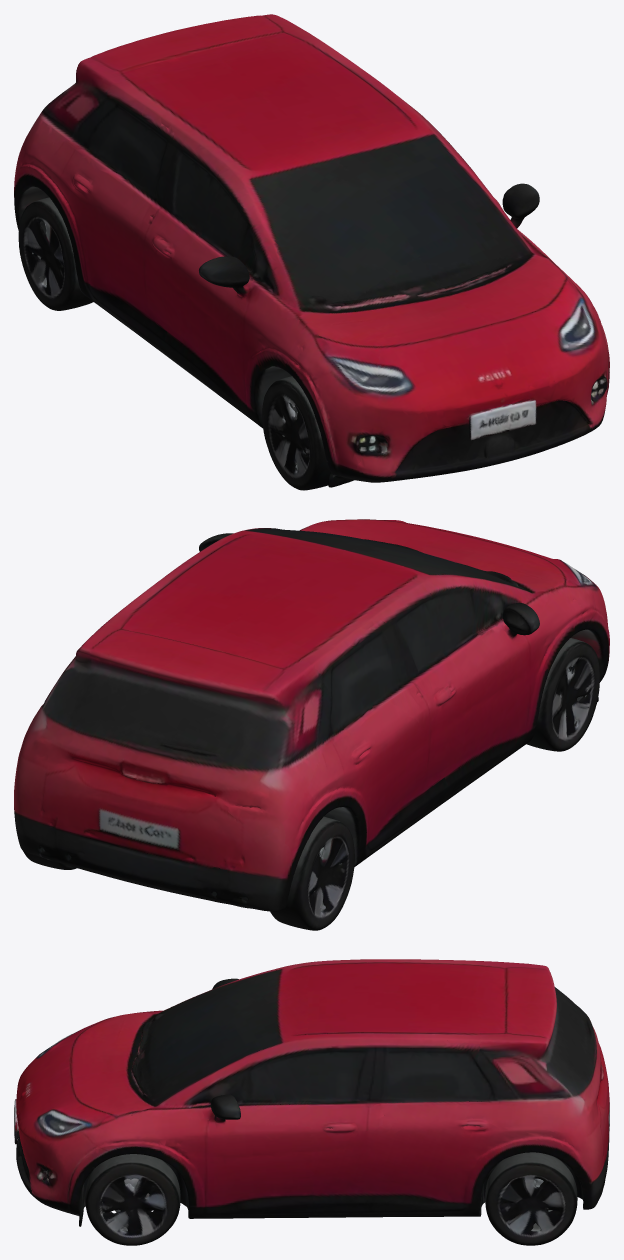
File: car.glb
The picture shows the model from 3 angles, top to bottom: view 1: azimuth 30°, elevation 25°; view 2: azimuth 150°, elevation 25°; view 3: azimuth 270°, elevation 25°; orthographic projection. The views are drawn at different scales.
Parts seen in each view (by area): view 1: tripo_node_75e40bc1-5a05-46bf-a51d-4d7802b3782a; view 2: tripo_node_75e40bc1-5a05-46bf-a51d-4d7802b3782a; view 3: tripo_node_75e40bc1-5a05-46bf-a51d-4d7802b3782a.
Boxes of the visible parts, x1,y1,x2,y2 form: tripo_node_75e40bc1-5a05-46bf-a51d-4d7802b3782a: [14, 14, 609, 490]; tripo_node_75e40bc1-5a05-46bf-a51d-4d7802b3782a: [14, 519, 609, 930]; tripo_node_75e40bc1-5a05-46bf-a51d-4d7802b3782a: [14, 959, 609, 1245].
Size of the model in its own units: 0.5276 by 0.3621 by 0.9999.
Materials: 1 (1 with a texture image).
